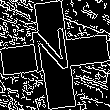N_S: (32, 27, 78, 83)
